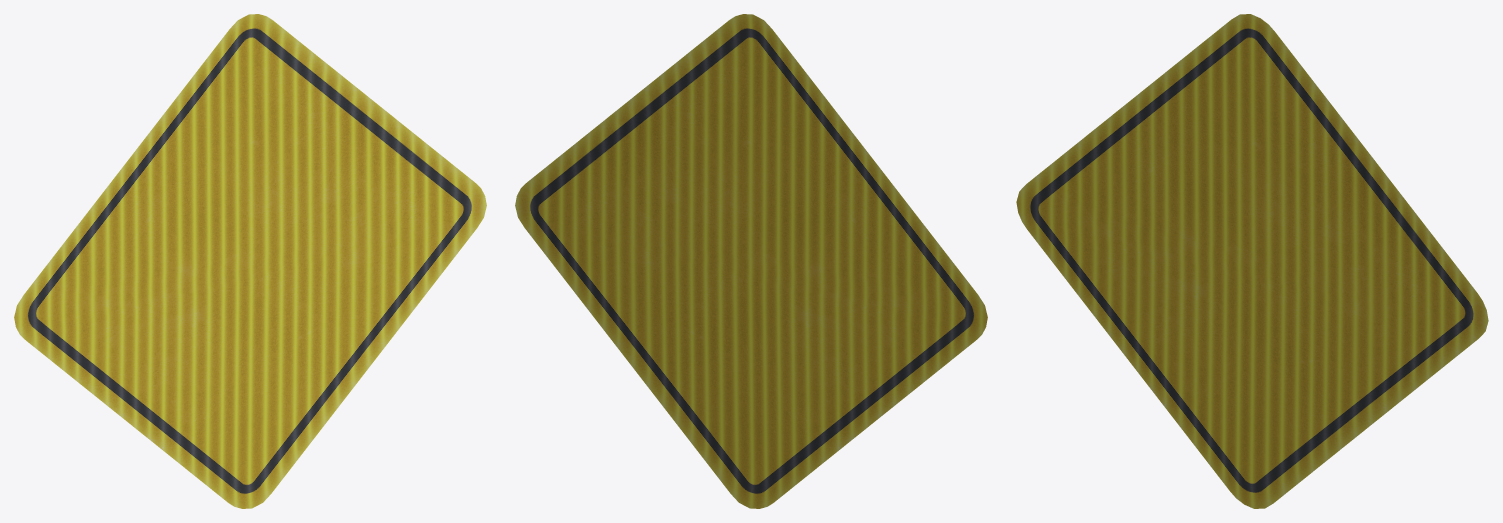
The model's file is RoadSignDiamondBack.fbx.
The picture shows the model from 3 angles, left to right: view 1: azimuth 30°, elevation 25°; view 2: azimuth 150°, elevation 25°; view 3: azimuth 330°, elevation 25°; orthographic projection.
Parts seen in each view (by area): view 1: Polygonal_Geometry; view 2: Polygonal_Geometry; view 3: Polygonal_Geometry.
Part boxes in pixels (box(x1,y1,x2,y2)): Polygonal_Geometry: box(14, 14, 486, 508); Polygonal_Geometry: box(515, 14, 987, 508); Polygonal_Geometry: box(1016, 14, 1488, 508).
Size of the model in its own units: 4.5 by 4.5 by 0.
